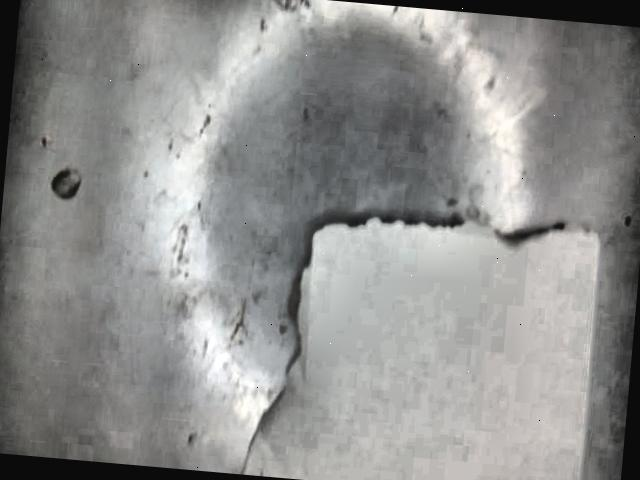Paper: (244, 216, 601, 480)
